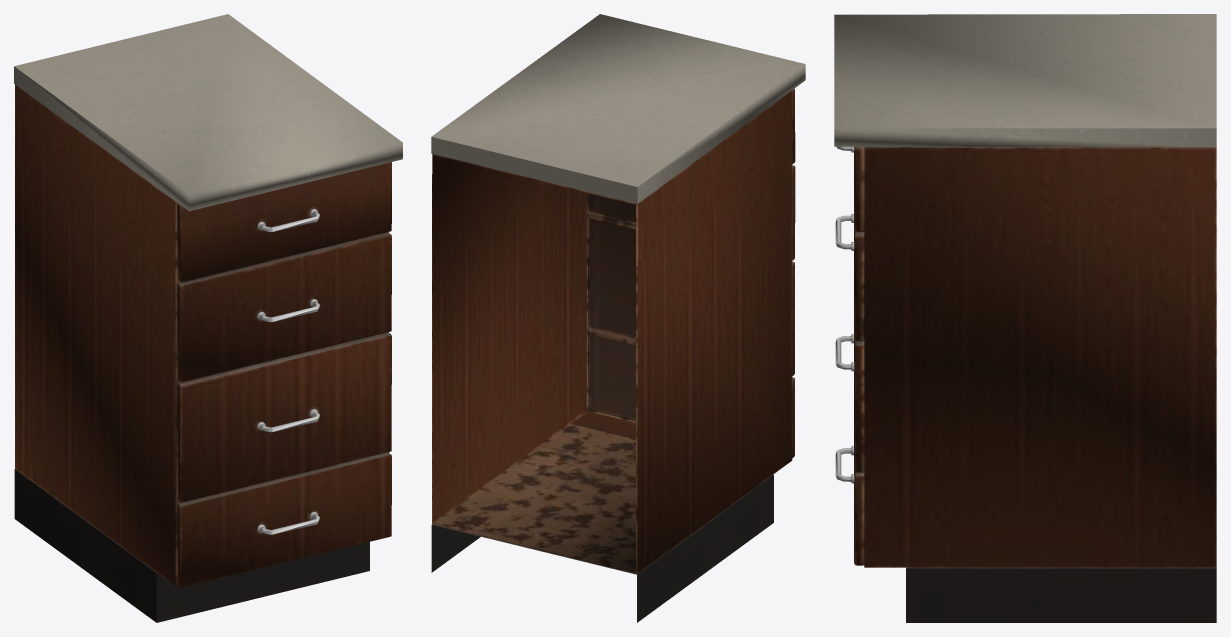
The model's file is kit_base_45dr-low.glb.
3 views of the same model, side by side, from view 1: azimuth 30°, elevation 25°; view 2: azimuth 150°, elevation 25°; view 3: azimuth 270°, elevation 25° (orthographic). The views are drawn at different scales.
Parts seen in each view (by area): view 1: kit_base_45dr-low; view 2: kit_base_45dr-low; view 3: kit_base_45dr-low.
Part boxes in pixels (left/top/right/bottom): kit_base_45dr-low: left=14, top=14, right=402, bottom=622; kit_base_45dr-low: left=431, top=14, right=805, bottom=622; kit_base_45dr-low: left=834, top=14, right=1216, bottom=622.
Bounding box in the file's own units: 0.448 × 0.905 × 0.634.
1 material, 1 textured.
